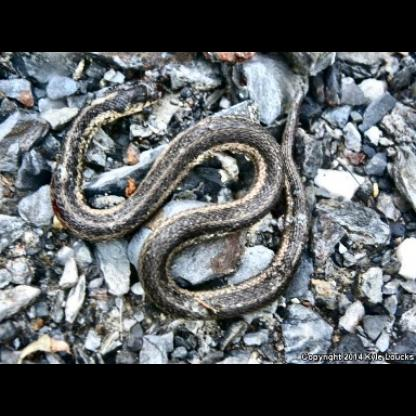Snake: (48, 79, 310, 323)
